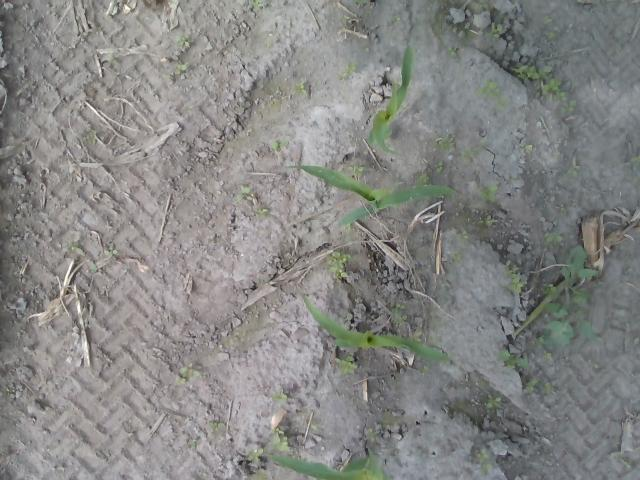Maize: (282, 158, 464, 230), (302, 291, 454, 366), (369, 40, 419, 157), (258, 445, 401, 480)
Weeds: (542, 244, 604, 344), (538, 77, 578, 113), (504, 264, 528, 296), (494, 350, 530, 370), (327, 252, 352, 278), (175, 364, 202, 387), (334, 354, 358, 376), (270, 426, 290, 452), (513, 64, 545, 80), (474, 78, 501, 96), (542, 14, 558, 42), (388, 302, 406, 326), (478, 450, 496, 472), (478, 183, 498, 201), (483, 394, 501, 414), (447, 22, 470, 37), (339, 62, 359, 78), (544, 230, 566, 244), (622, 154, 640, 171), (434, 135, 454, 149), (447, 250, 463, 266), (347, 164, 368, 176), (246, 448, 264, 462), (540, 382, 556, 397), (489, 22, 504, 38), (269, 139, 287, 152), (522, 378, 538, 392), (63, 241, 81, 253), (446, 44, 461, 58), (563, 166, 581, 177), (462, 147, 478, 159), (366, 425, 376, 444), (497, 94, 510, 108), (270, 392, 288, 402), (208, 420, 226, 430), (293, 83, 307, 95), (416, 173, 431, 184), (478, 218, 498, 226), (458, 230, 472, 241), (255, 206, 270, 216), (177, 36, 189, 48), (104, 246, 120, 255), (434, 160, 445, 172), (238, 184, 251, 194), (351, 0, 369, 7), (249, 0, 263, 9), (520, 142, 530, 153), (176, 63, 188, 70)
